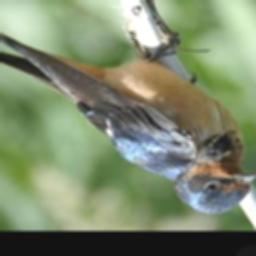Swallow: (0, 2, 256, 215)
